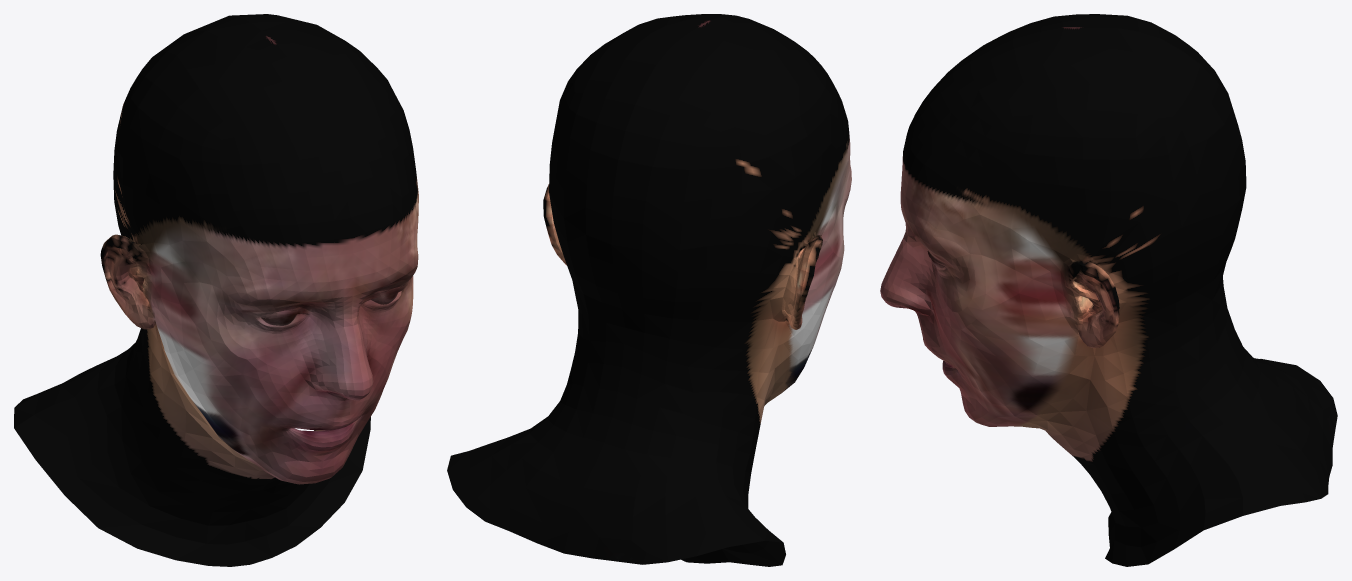
3 views of the same model, side by side, from view 1: azimuth 30°, elevation 25°; view 2: azimuth 150°, elevation 25°; view 3: azimuth 270°, elevation 25° (orthographic). The views are drawn at different scales.
Bounding box in the file's own units: 0.2131 × 0.3307 × 0.2629.
1 material, 1 textured.
